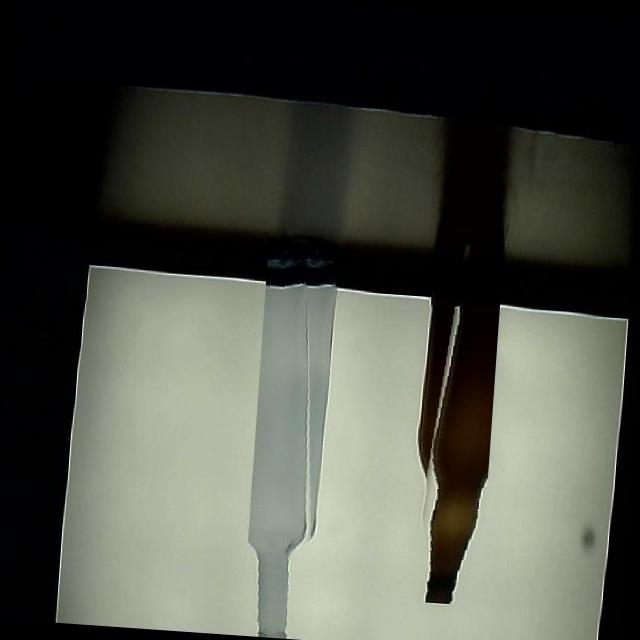Glass: (240, 234, 339, 638), (404, 233, 503, 604)
